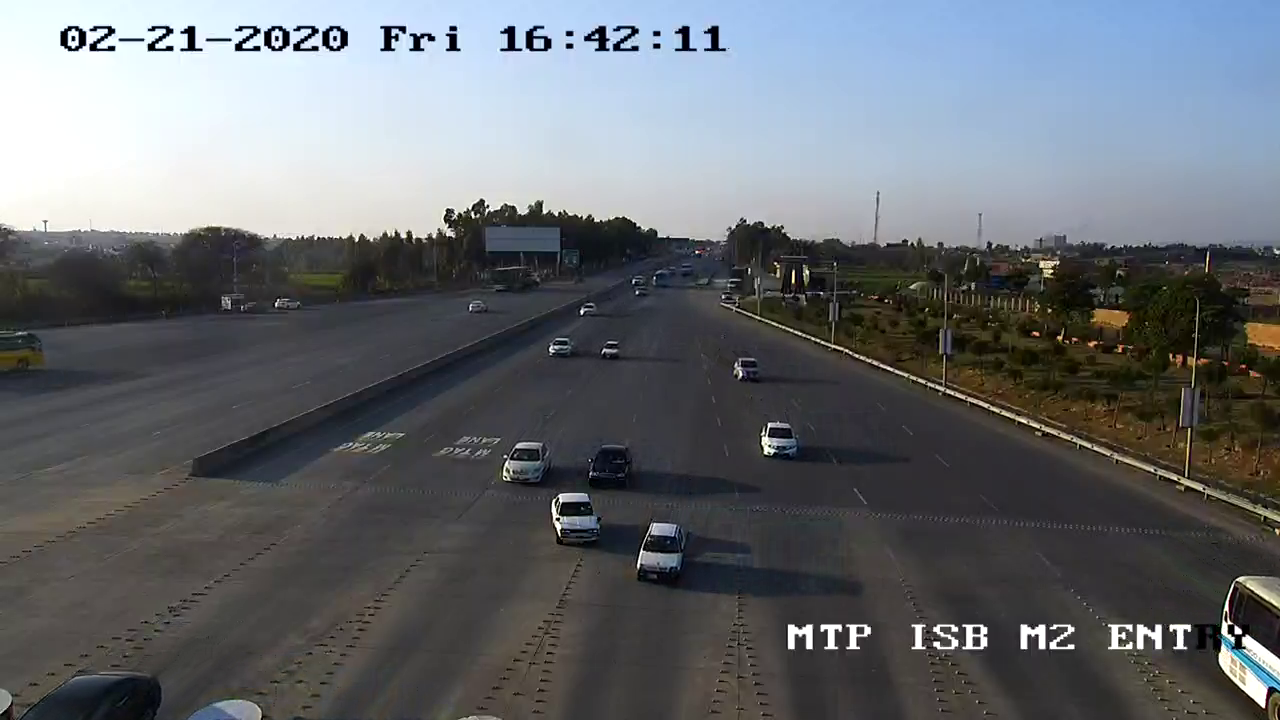f1: (625, 514, 694, 587), (537, 488, 607, 549), (495, 431, 555, 492), (580, 438, 642, 497), (755, 412, 805, 469)
